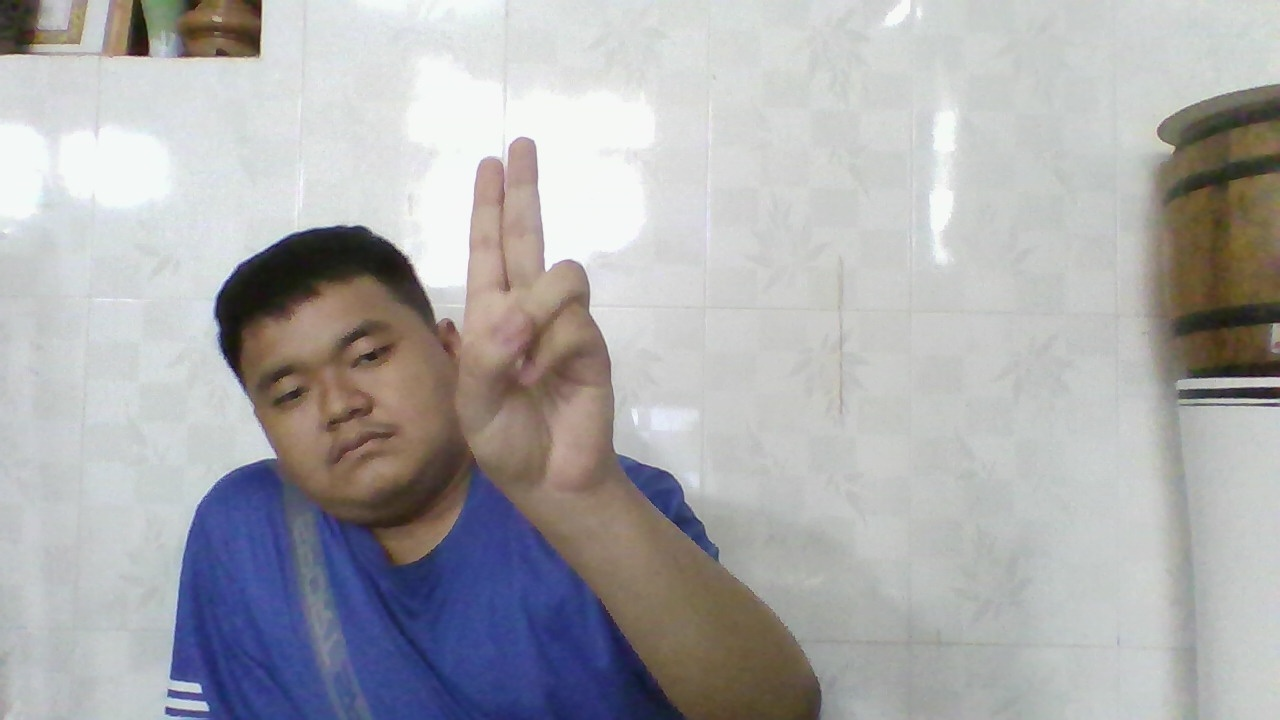U: (453, 131, 609, 502)
